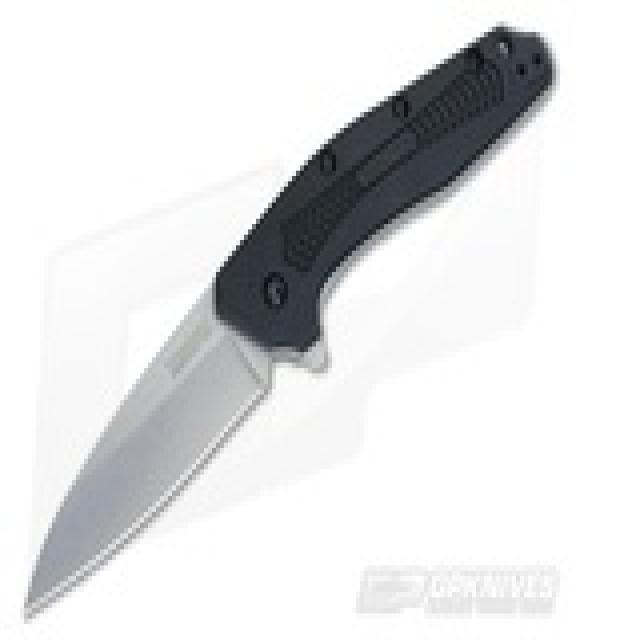Knife: (13, 24, 559, 626)
